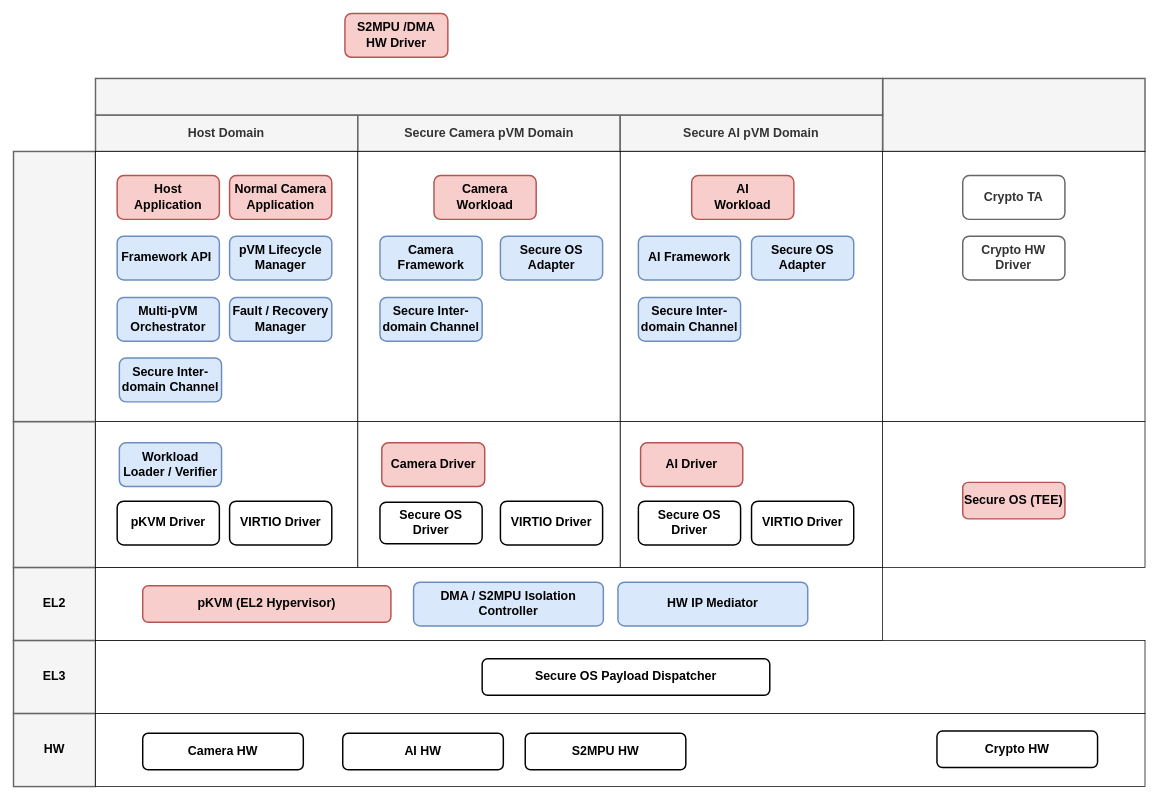
Some shapes in this 1158 by 799 pixel diagram are drawn without their labels. Here are the shapes that lost their labels. From the top down, the box of each, then its label:
(94, 77, 883, 115): Normal World (REE)
(882, 77, 1145, 152): Secure World (TEE)
(12, 150, 96, 422): EL0
(12, 420, 96, 568): EL1
